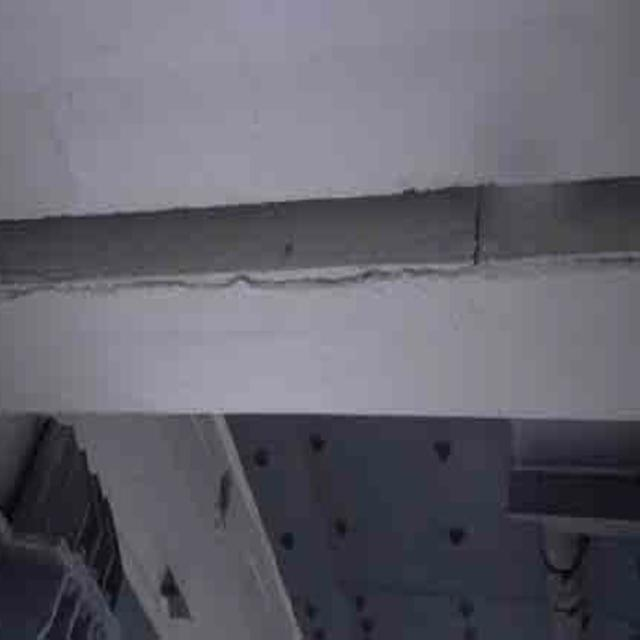crack: (14, 257, 500, 306)
